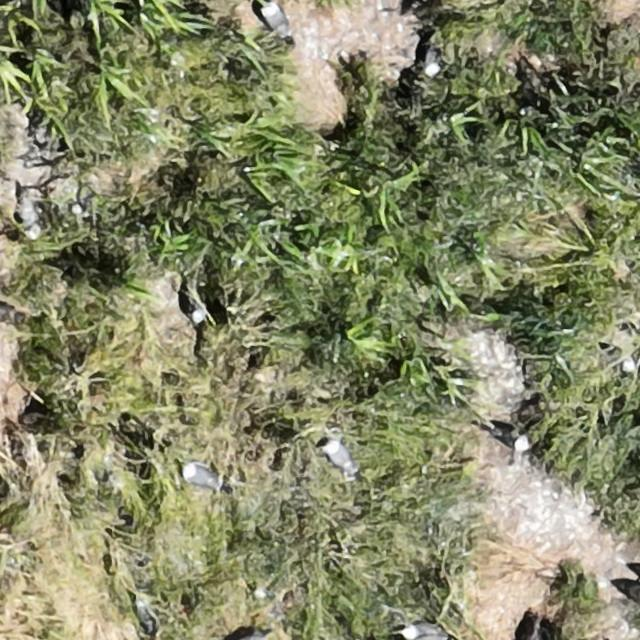umineko: (262, 2, 288, 36), (183, 466, 219, 490), (326, 441, 354, 470), (491, 427, 527, 449), (402, 622, 435, 637), (425, 48, 442, 76), (190, 300, 208, 323)
